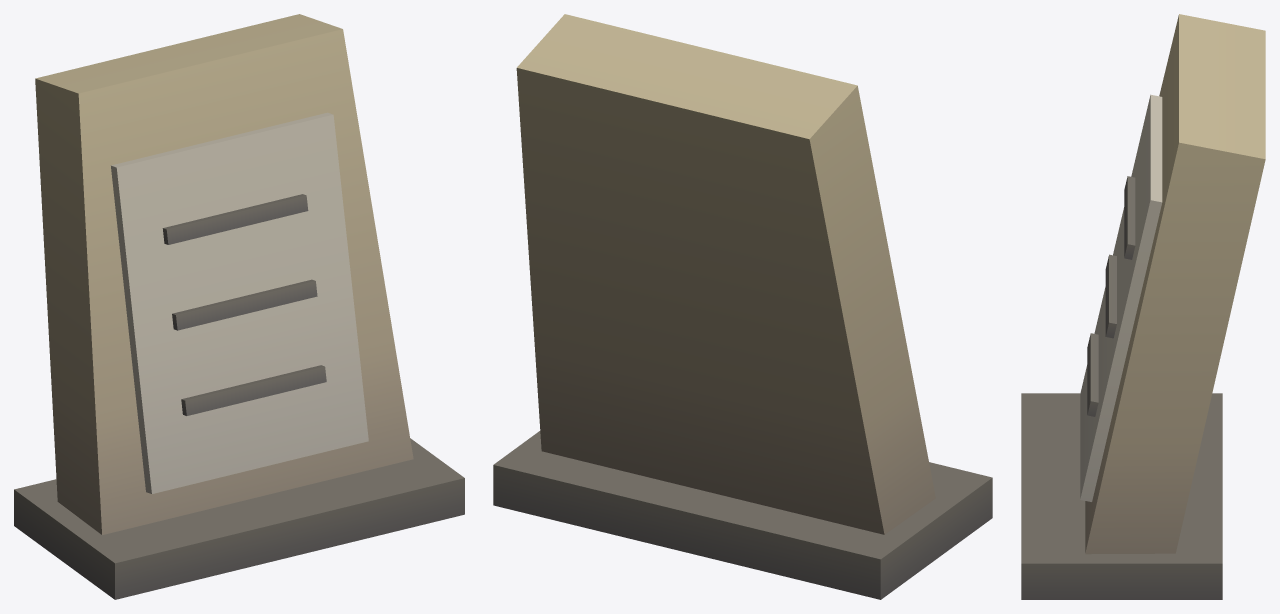
File: item_rune_blank.glb
3 renders of one model, left to right at view 1: azimuth 30°, elevation 25°; view 2: azimuth 150°, elevation 25°; view 3: azimuth 270°, elevation 25°, orthographic. The views are drawn at different scales.
Visible parts, largest first — view 1: item_rune_blank; view 2: item_rune_blank; view 3: item_rune_blank.
Boxes of the visible parts, x1,y1,x2,y2 form: item_rune_blank: [14, 14, 464, 599]; item_rune_blank: [493, 14, 992, 599]; item_rune_blank: [1021, 14, 1265, 599].
Bounding box in the file's own units: 1 × 1.22 × 0.6071.
Materials: 1 (1 with a texture image).
